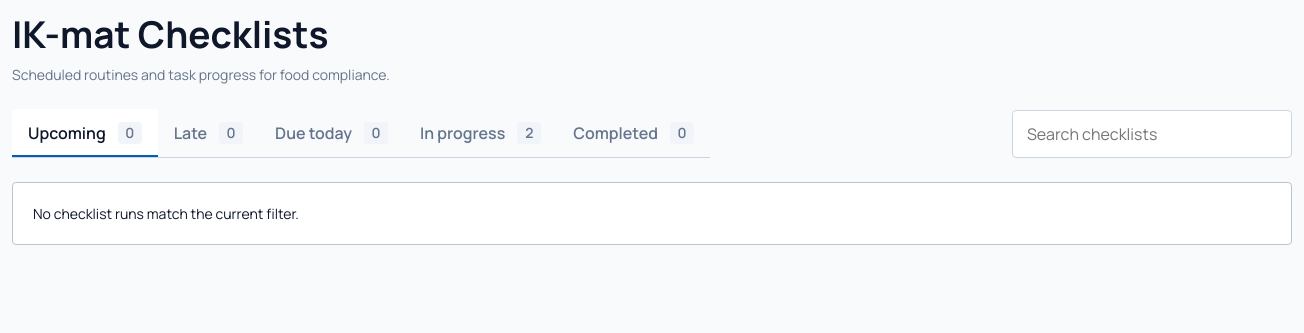
Test: IKMatChecklistsPage › shows all in-progress runs even when they share a checklist definition group
Click the button with class "triage-tab" showing "In progress 2".
click(481, 133)  # box [404,109,557,157]
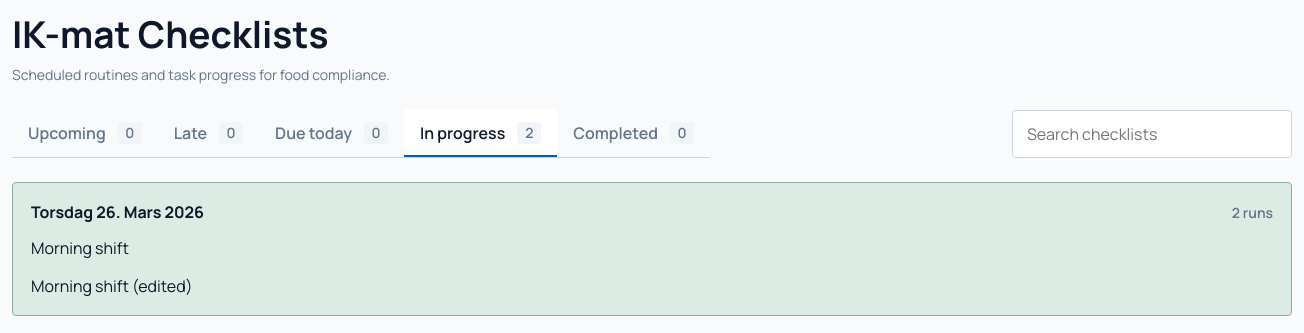
Result: the text "Morning shift" is shown at [31,237,129,259]
Result: the text "Morning shift (edited)" is shown at [31,275,192,297]
Result: the number of elements with class "run-card-stub" is 2 at [31,237,129,259]; [31,275,192,297]
